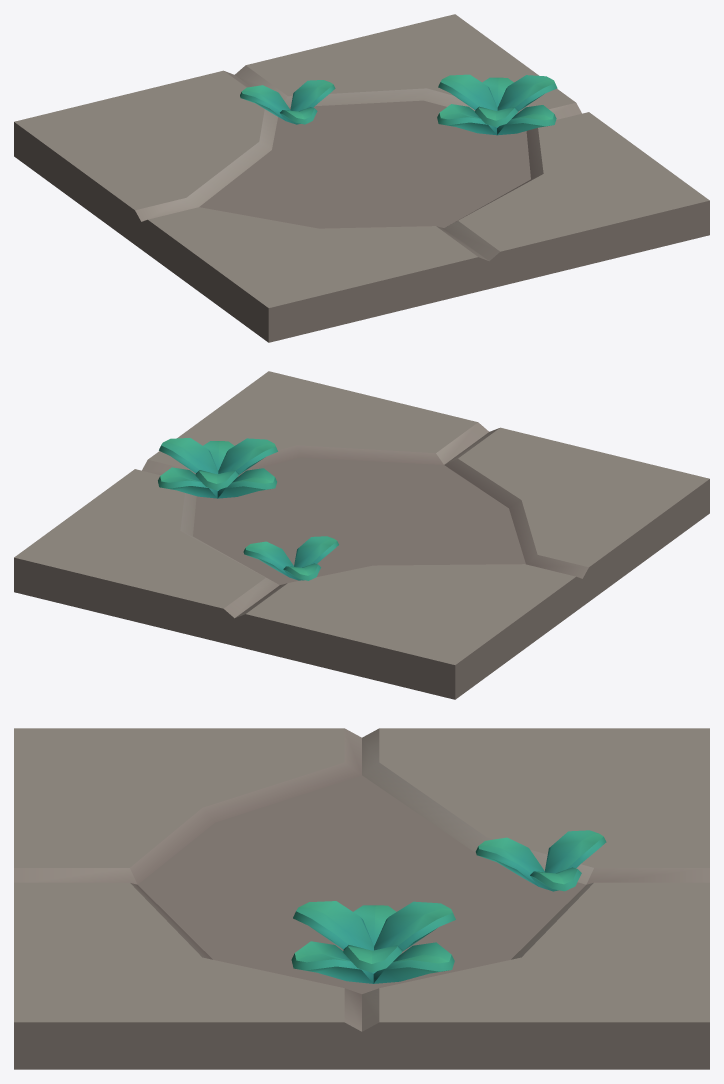
Rendered from floor_tile_small_weeds_B.gltf.
3 views of the same model, one above another, from view 1: azimuth 30°, elevation 25°; view 2: azimuth 150°, elevation 25°; view 3: azimuth 270°, elevation 25° (orthographic). The views are drawn at different scales.
Parts seen in each view (by area): view 1: floor_tile_small_weeds_B; view 2: floor_tile_small_weeds_B; view 3: floor_tile_small_weeds_B.
Boxes of the visible parts, x1,y1,x2,y2 form: floor_tile_small_weeds_B: (14,14,709,342); floor_tile_small_weeds_B: (14,371,709,699); floor_tile_small_weeds_B: (14,728,709,1069).
Bounding box in the file's own units: 2 × 0.2955 × 2.
Materials: 1 (1 with a texture image).
